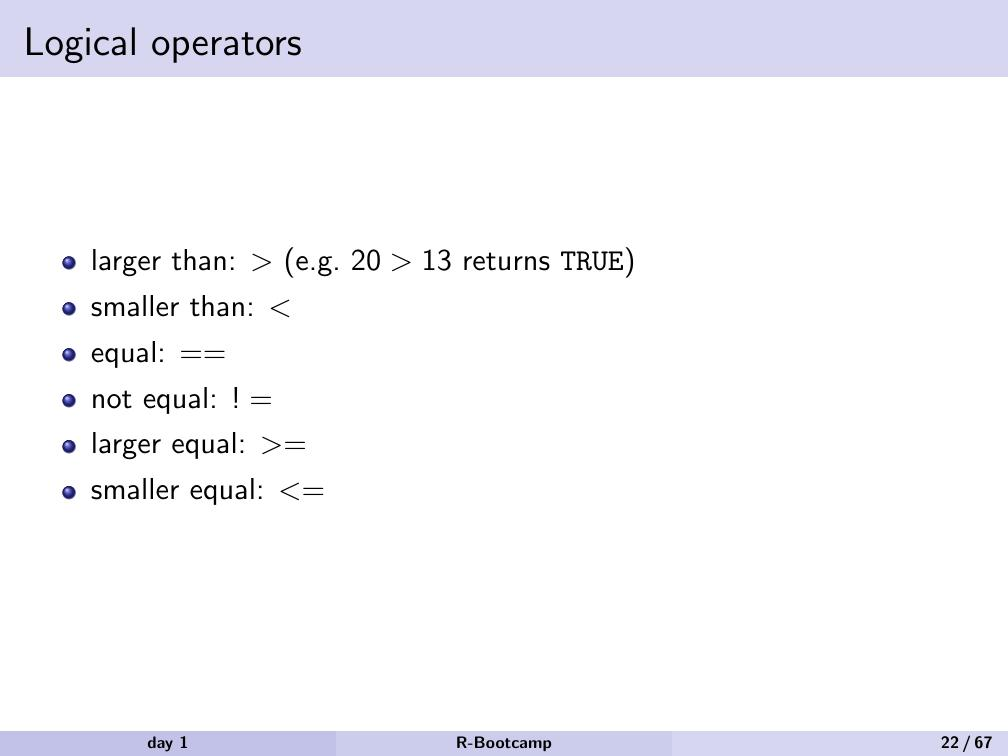Title: (17, 17, 315, 70)
